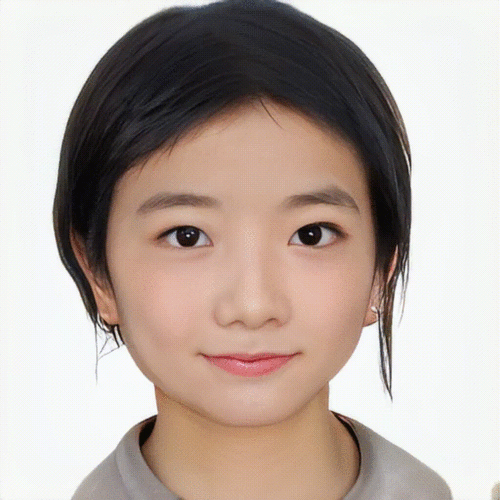no_mask: (99, 87, 391, 420)
